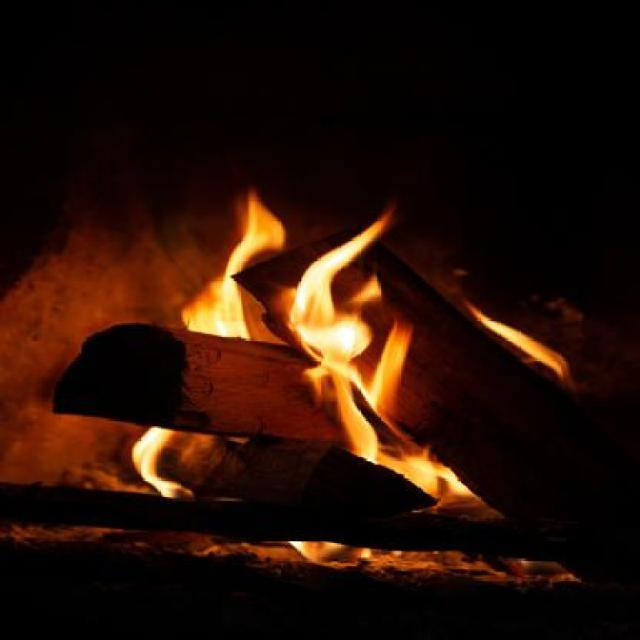Fire: (295, 210, 409, 450), (180, 172, 288, 334), (464, 298, 574, 384), (126, 422, 190, 504), (376, 452, 470, 500), (291, 533, 378, 573)
